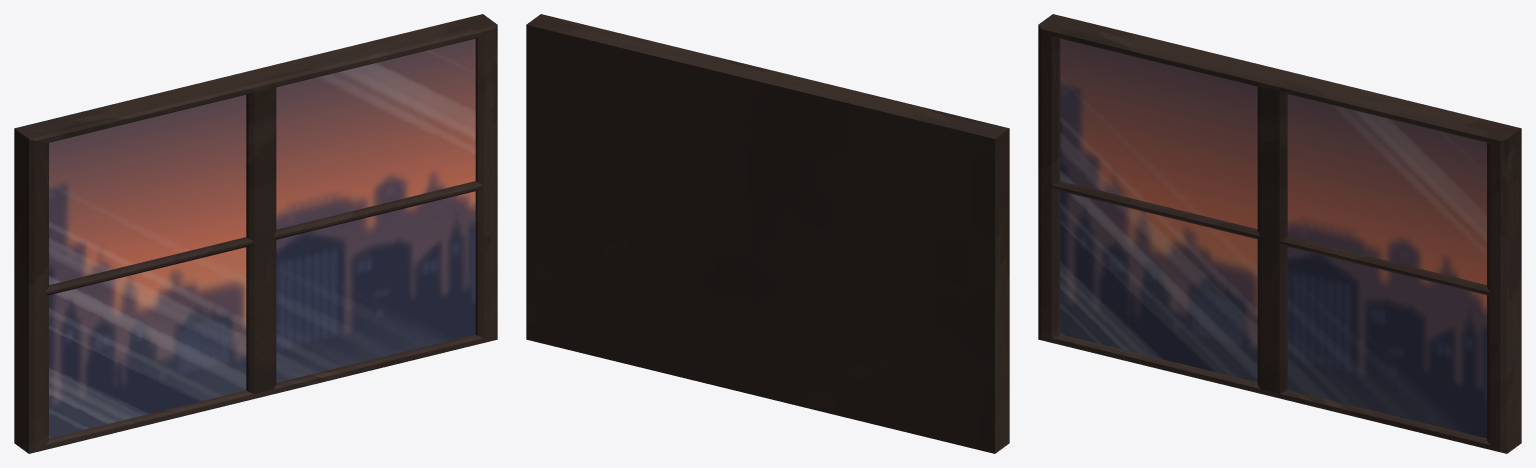
File: WINOW 2.fbx
The picture shows the model from 3 angles, left to right: view 1: azimuth 30°, elevation 25°; view 2: azimuth 150°, elevation 25°; view 3: azimuth 330°, elevation 25°; orthographic projection.
Parts seen in each view (by area): view 1: window 1; view 2: window 1; view 3: window 1.
Part boxes in pixels (box(x1,y1,x2,y2)): window 1: box(14, 14, 497, 453); window 1: box(526, 14, 1009, 453); window 1: box(1038, 14, 1521, 453).
Size of the model in its own units: 253 by 162 by 15.19.
1 material, 1 textured.
